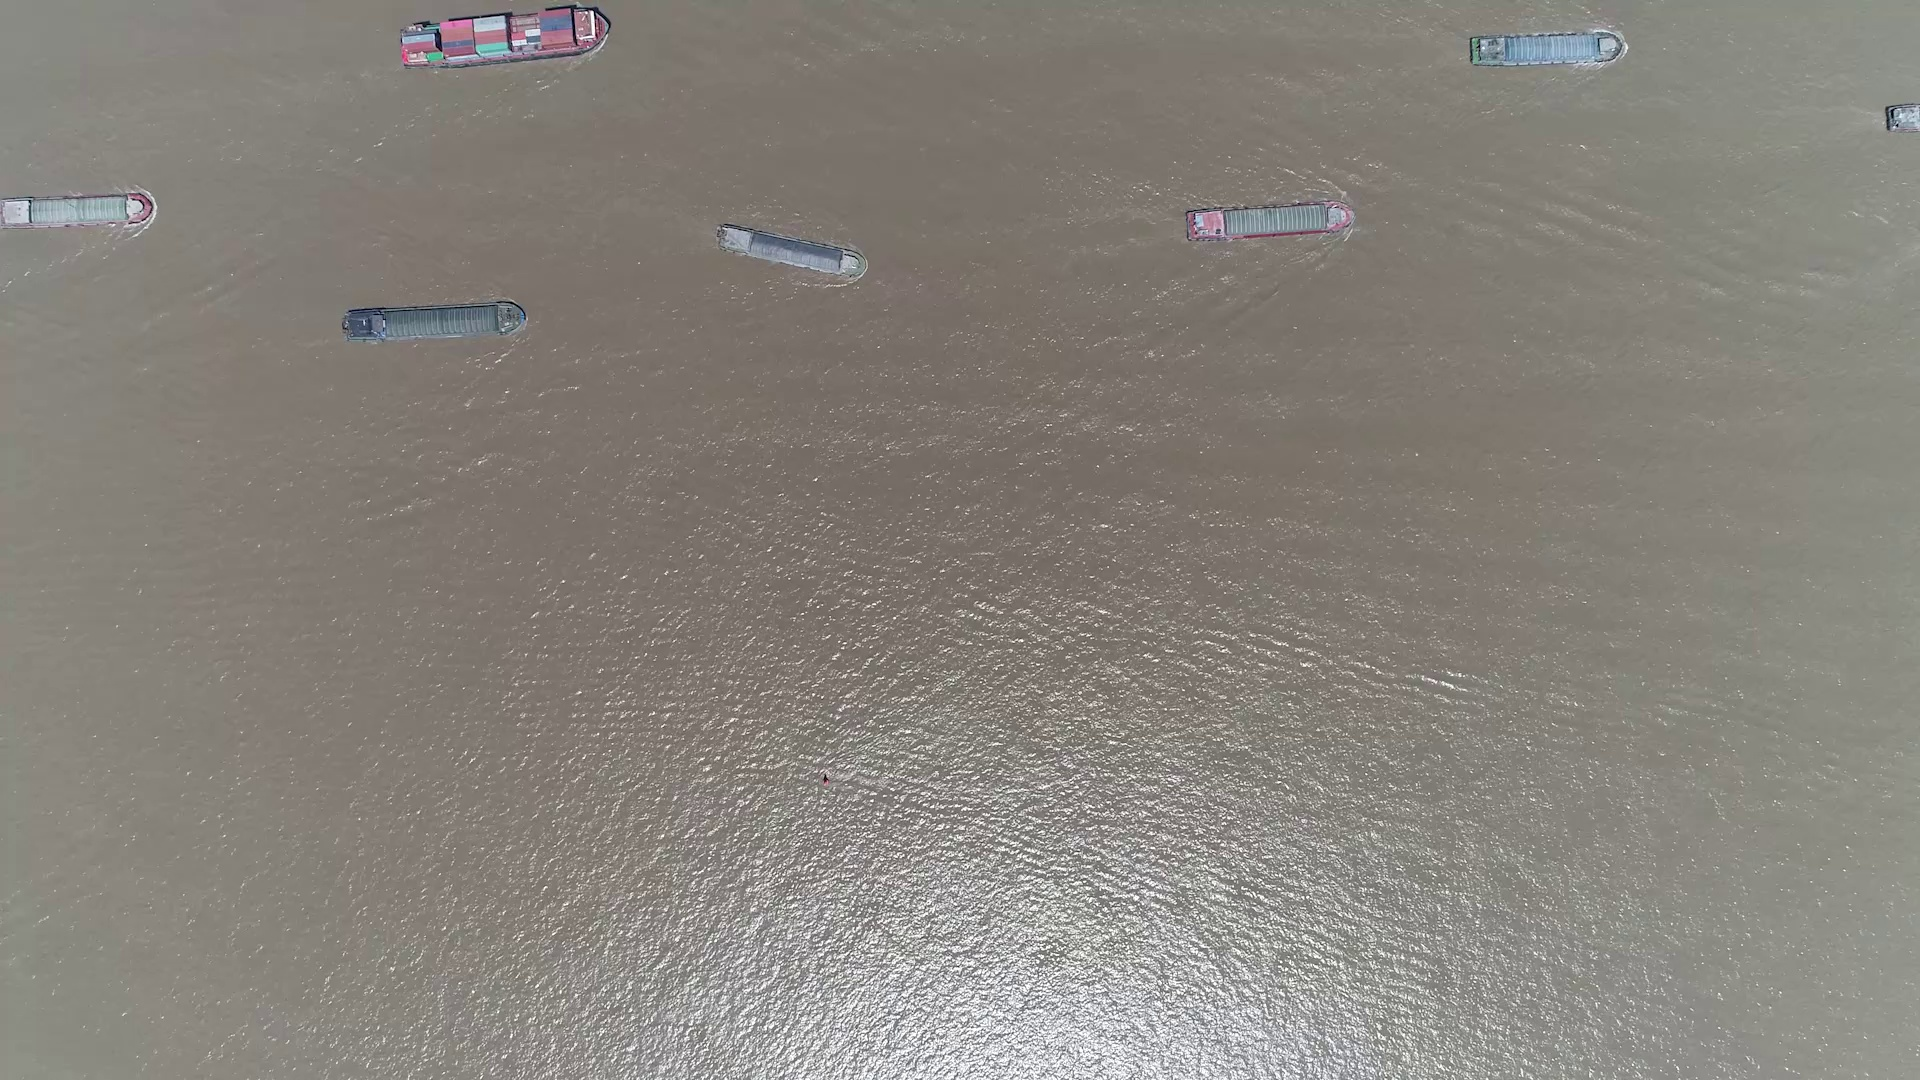ship: (398, 9, 609, 66), (716, 223, 865, 276), (344, 303, 524, 342), (1187, 203, 1354, 243), (1469, 33, 1622, 69), (3, 193, 153, 225)
